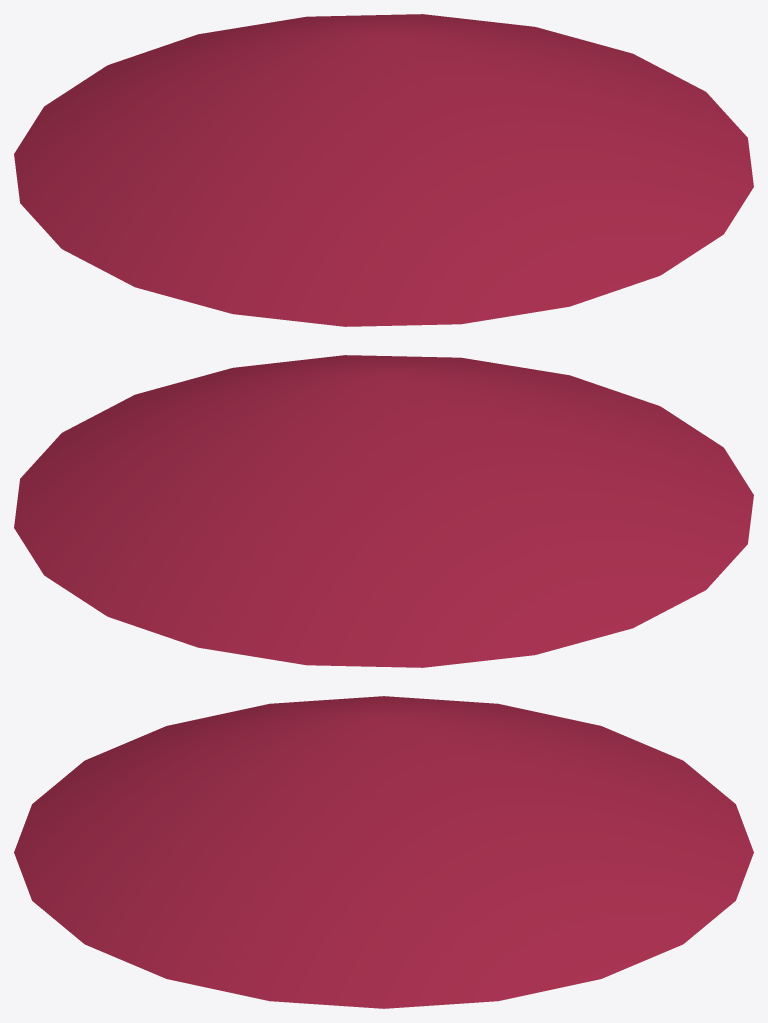
Rendered from EnemySky.fbx.
The picture shows the model from 3 angles, top to bottom: view 1: azimuth 30°, elevation 25°; view 2: azimuth 150°, elevation 25°; view 3: azimuth 270°, elevation 25°; orthographic projection.
Visible parts, largest first — view 1: pCone1; view 2: pCone1; view 3: pCone1.
Boxes of the visible parts, box(x1,y1,x2,y2) form: pCone1: box(14, 14, 753, 326); pCone1: box(14, 355, 753, 667); pCone1: box(14, 696, 753, 1008).
Bounding box in the file's own units: 2 × 0.4 × 2.
